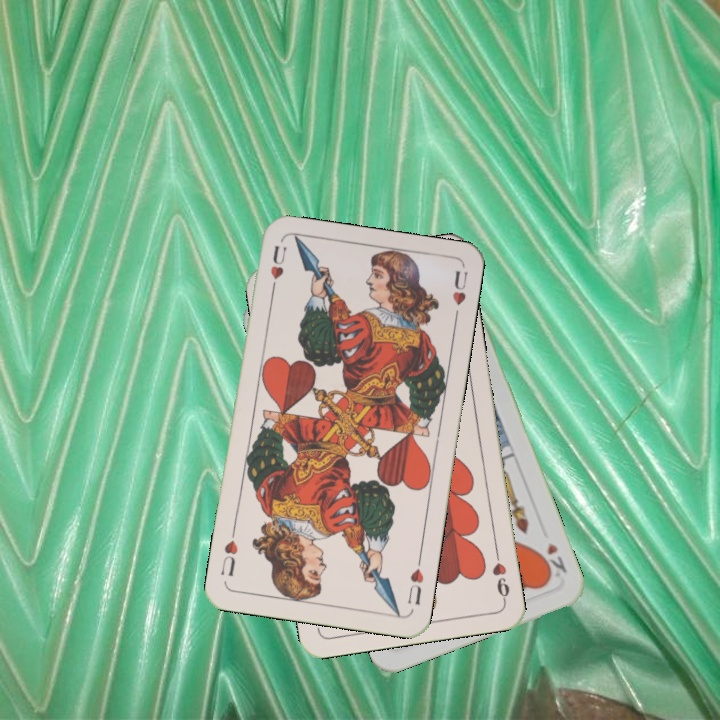H9: (488, 545, 512, 604)
HK: (536, 538, 570, 581)
HU: (266, 241, 289, 298), (403, 553, 426, 608)
